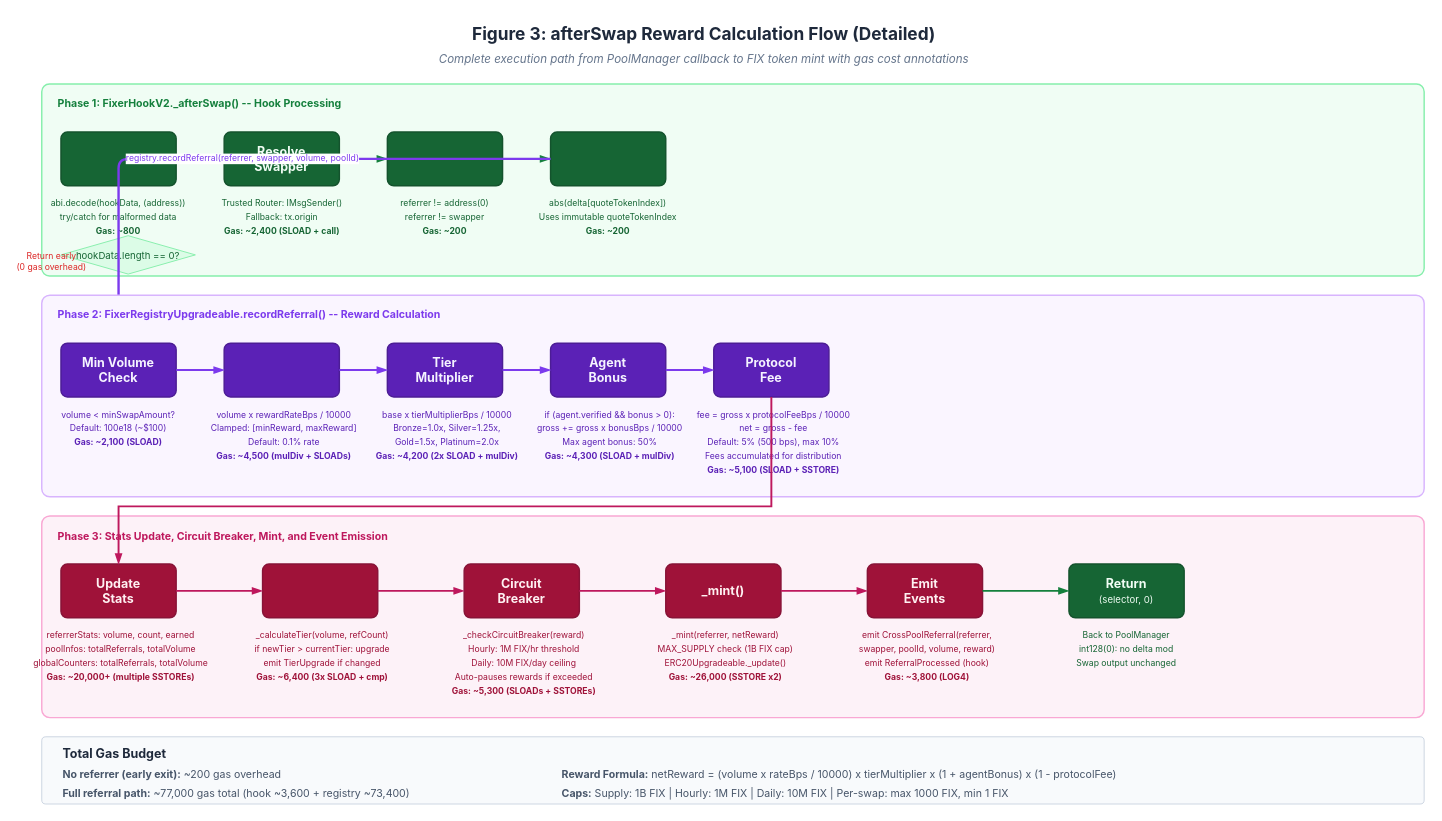
Some shapes in this 1442 by 821 pixel diagram are drawn without their labels. Here are the shapes that lost their labels. From the top down, the centre of each, then its label:
point 118,158: hookData Decode
point 444,158: Validate Referrer
point 607,158: Calculate Volume
point 281,369: Base Reward
point 319,590: Tier Upgrade?
